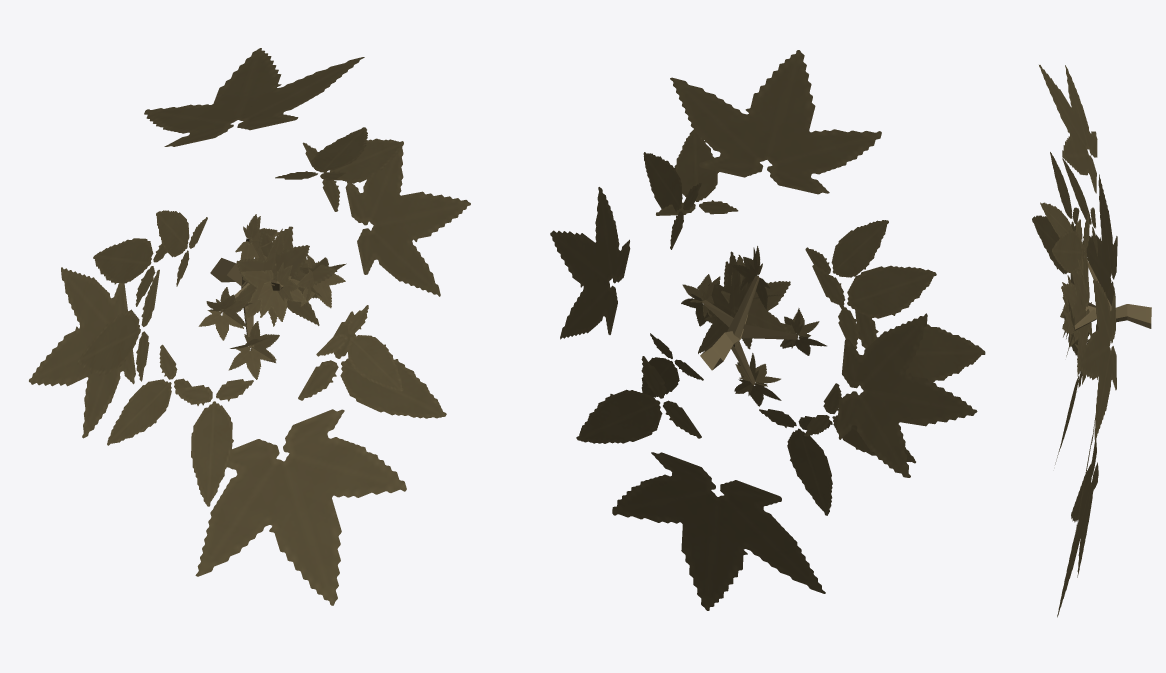
File: p_auto_vegetative_c4_cards.obj
The picture shows the model from 3 angles, left to right: view 1: azimuth 30°, elevation 25°; view 2: azimuth 150°, elevation 25°; view 3: azimuth 270°, elevation 25°; orthographic projection. The views are drawn at different scales.
Size of the model in its own units: 0.777 by 0.951 by 0.197.
Materials: 1 (1 with a texture image).
